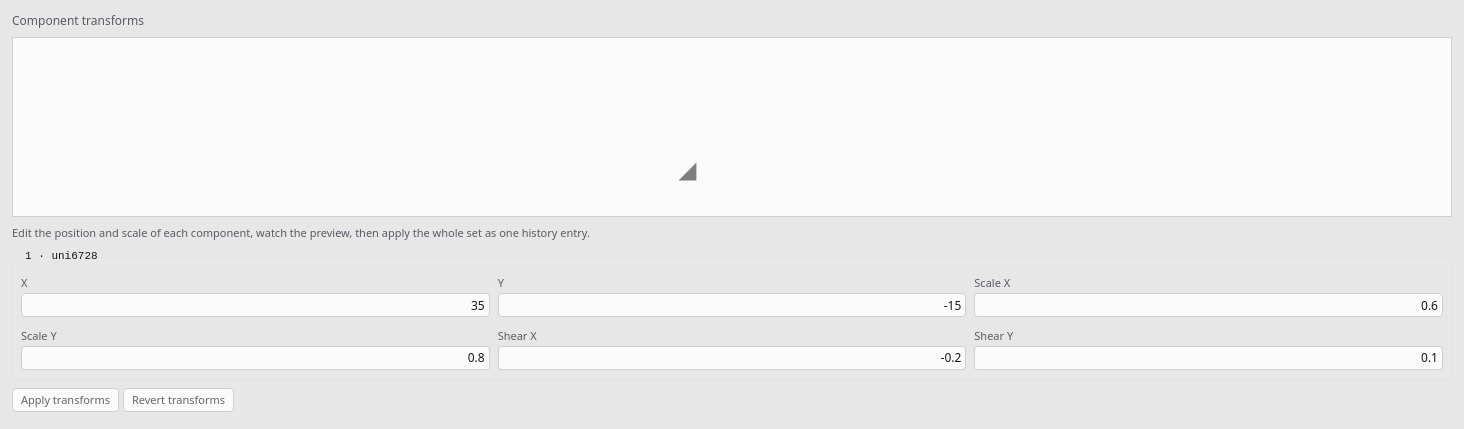
Test case: CJK component transform grid › rejects invalid numbers without staging anything
The width and height of the screenshot is (1464, 429).
Step 1. Replace the text in the field named "Scale X for component 1 (uni6728)" with "1/0" → (1209, 305), box [974,293,1443,317]
Then press Enter
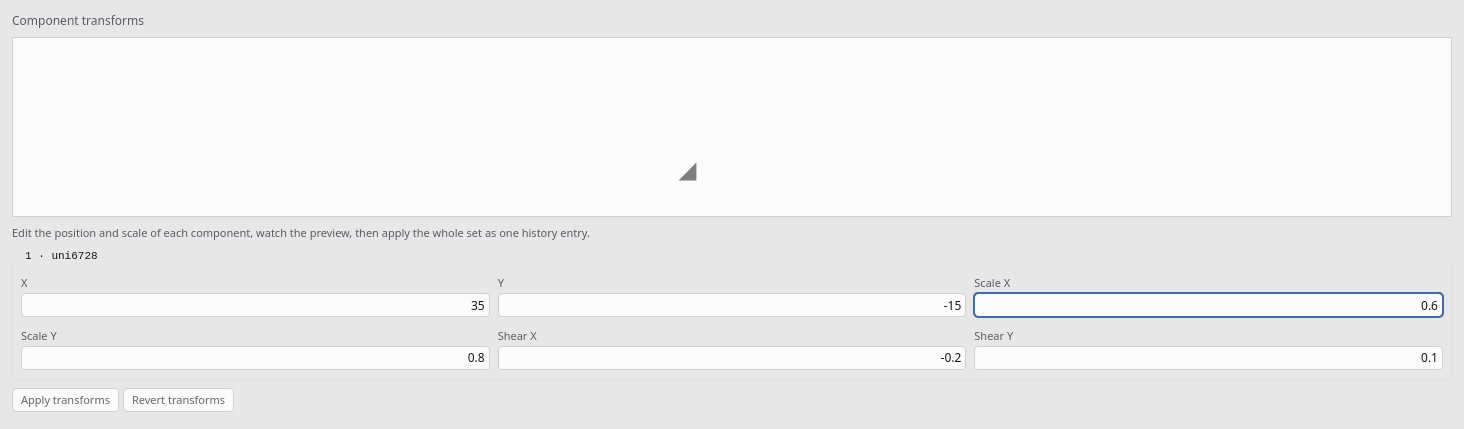
Check: the button "Apply transforms" is disabled, box [12,388,119,412]
Check: the field named "Scale X for component 1 (uni6728)" holds "0.6", box [974,293,1443,317]
